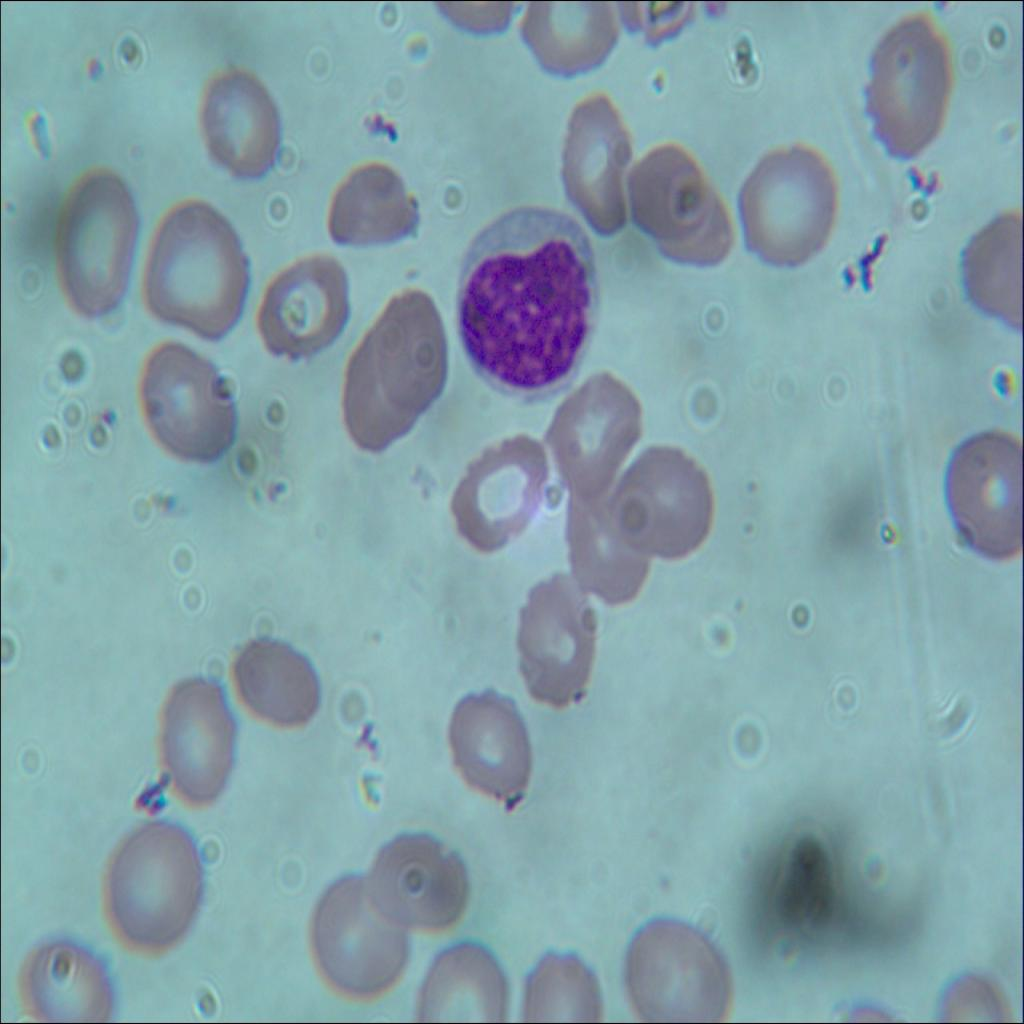Eritrosit: (142, 194, 250, 346), (136, 332, 246, 474), (48, 159, 142, 321), (99, 815, 199, 959), (859, 12, 953, 165), (306, 864, 404, 1001), (729, 141, 838, 262), (548, 87, 634, 238), (502, 569, 595, 708), (538, 371, 643, 492), (558, 470, 652, 604), (154, 669, 242, 807), (936, 429, 1023, 567), (446, 431, 548, 548), (614, 440, 712, 559), (438, 691, 530, 817), (253, 252, 351, 364), (624, 918, 726, 1023), (371, 819, 464, 932), (326, 155, 422, 258), (226, 631, 321, 735), (195, 64, 278, 182), (18, 929, 114, 1023), (374, 286, 448, 407), (511, 931, 606, 1023), (518, 2, 624, 84), (341, 334, 411, 454), (618, 138, 701, 236), (410, 939, 506, 1023), (658, 184, 732, 278)
Limfoblast: (458, 205, 602, 407)
Platelet: (101, 402, 119, 435)
